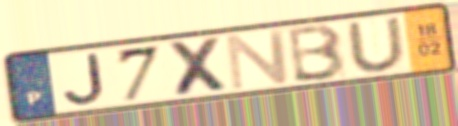7: (112, 44, 165, 103)
B: (286, 21, 349, 84)
J: (60, 50, 108, 107)
N: (223, 27, 293, 93)
U: (343, 14, 410, 74)
X: (165, 35, 236, 98)
